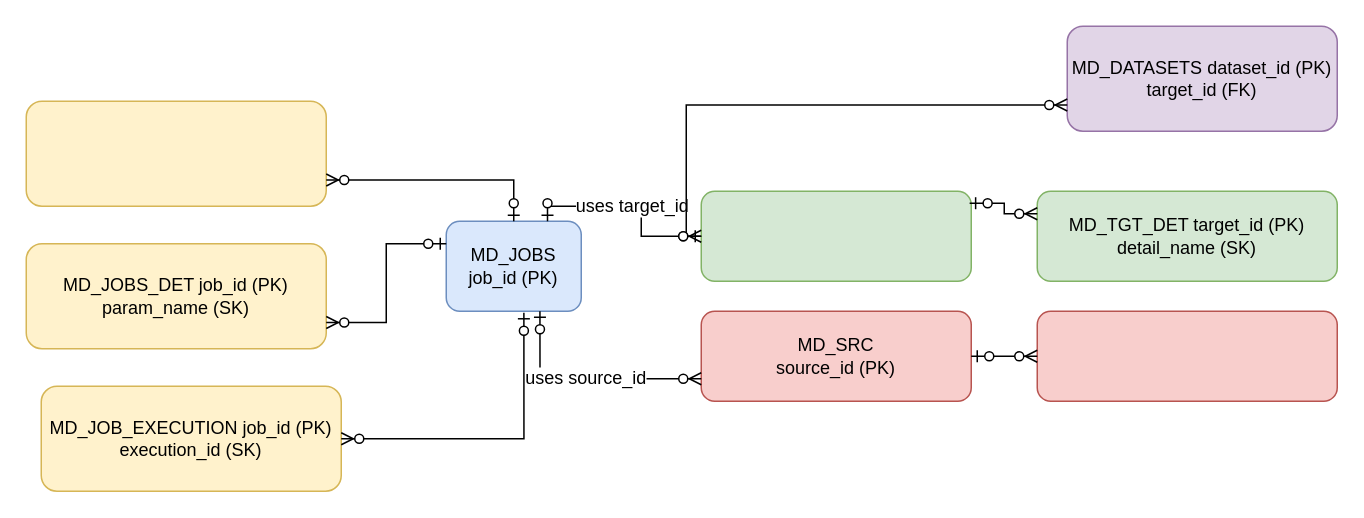
Image size: 1364x518. Some labels were removed from this diagram. The shapes that lost their labels are listed below. From the top down, each one's centre as x and y in pixels, then its label:
the point at 175,153: MD_JOB_CONFIG job_id (PK) sk (SK) → config_value
the point at 835,235: MD_TGT target_id (PK)
the point at 1186,355: MD_SRC_DET source_id (PK) detail_name (SK)
